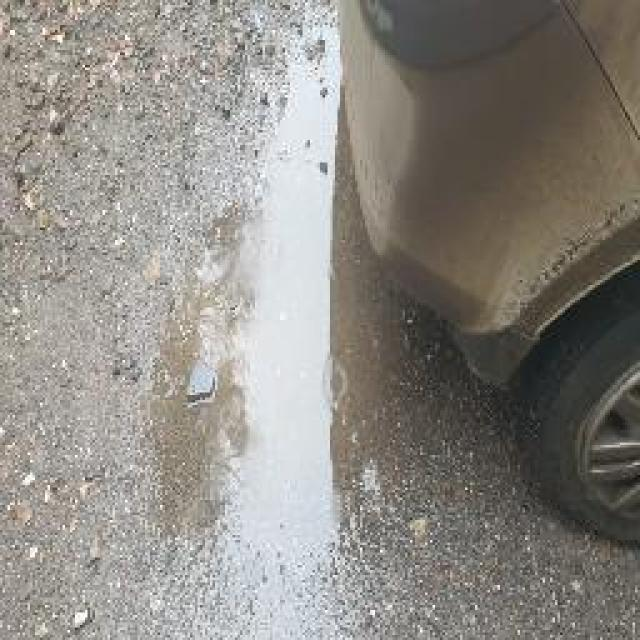stagnation: (116, 26, 479, 555)
